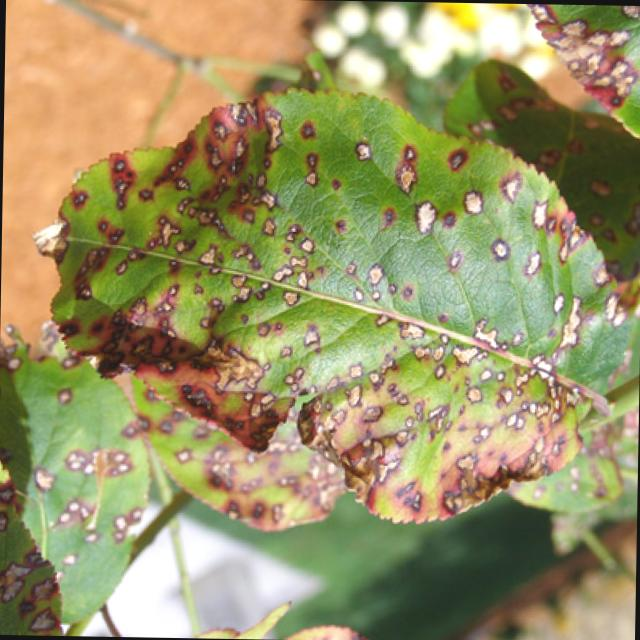leaf_spot: (56, 91, 629, 521), (0, 326, 146, 621), (133, 381, 344, 531)
